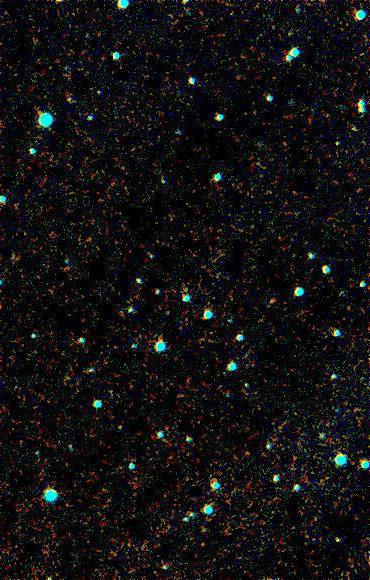star: (256, 288, 286, 318)
